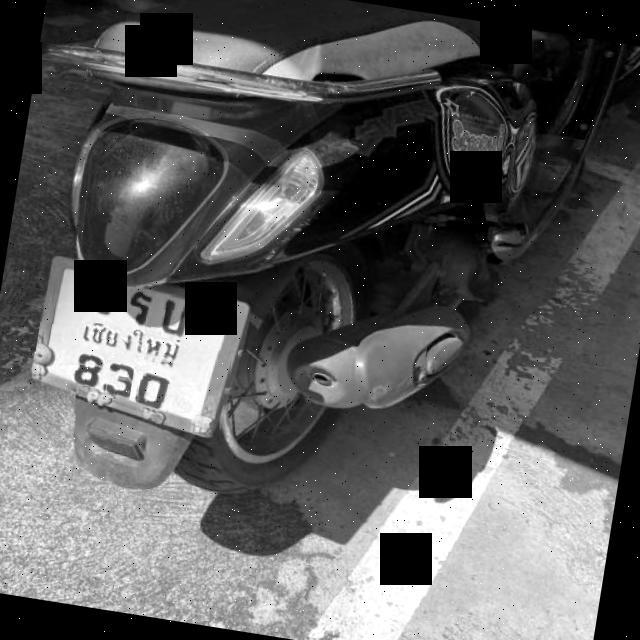letters: (156, 293, 198, 342), (68, 344, 109, 393), (135, 369, 176, 414), (124, 286, 156, 332), (104, 356, 136, 401), (94, 277, 122, 318)
license-plate: (32, 256, 241, 434)
province: (71, 320, 189, 372)
